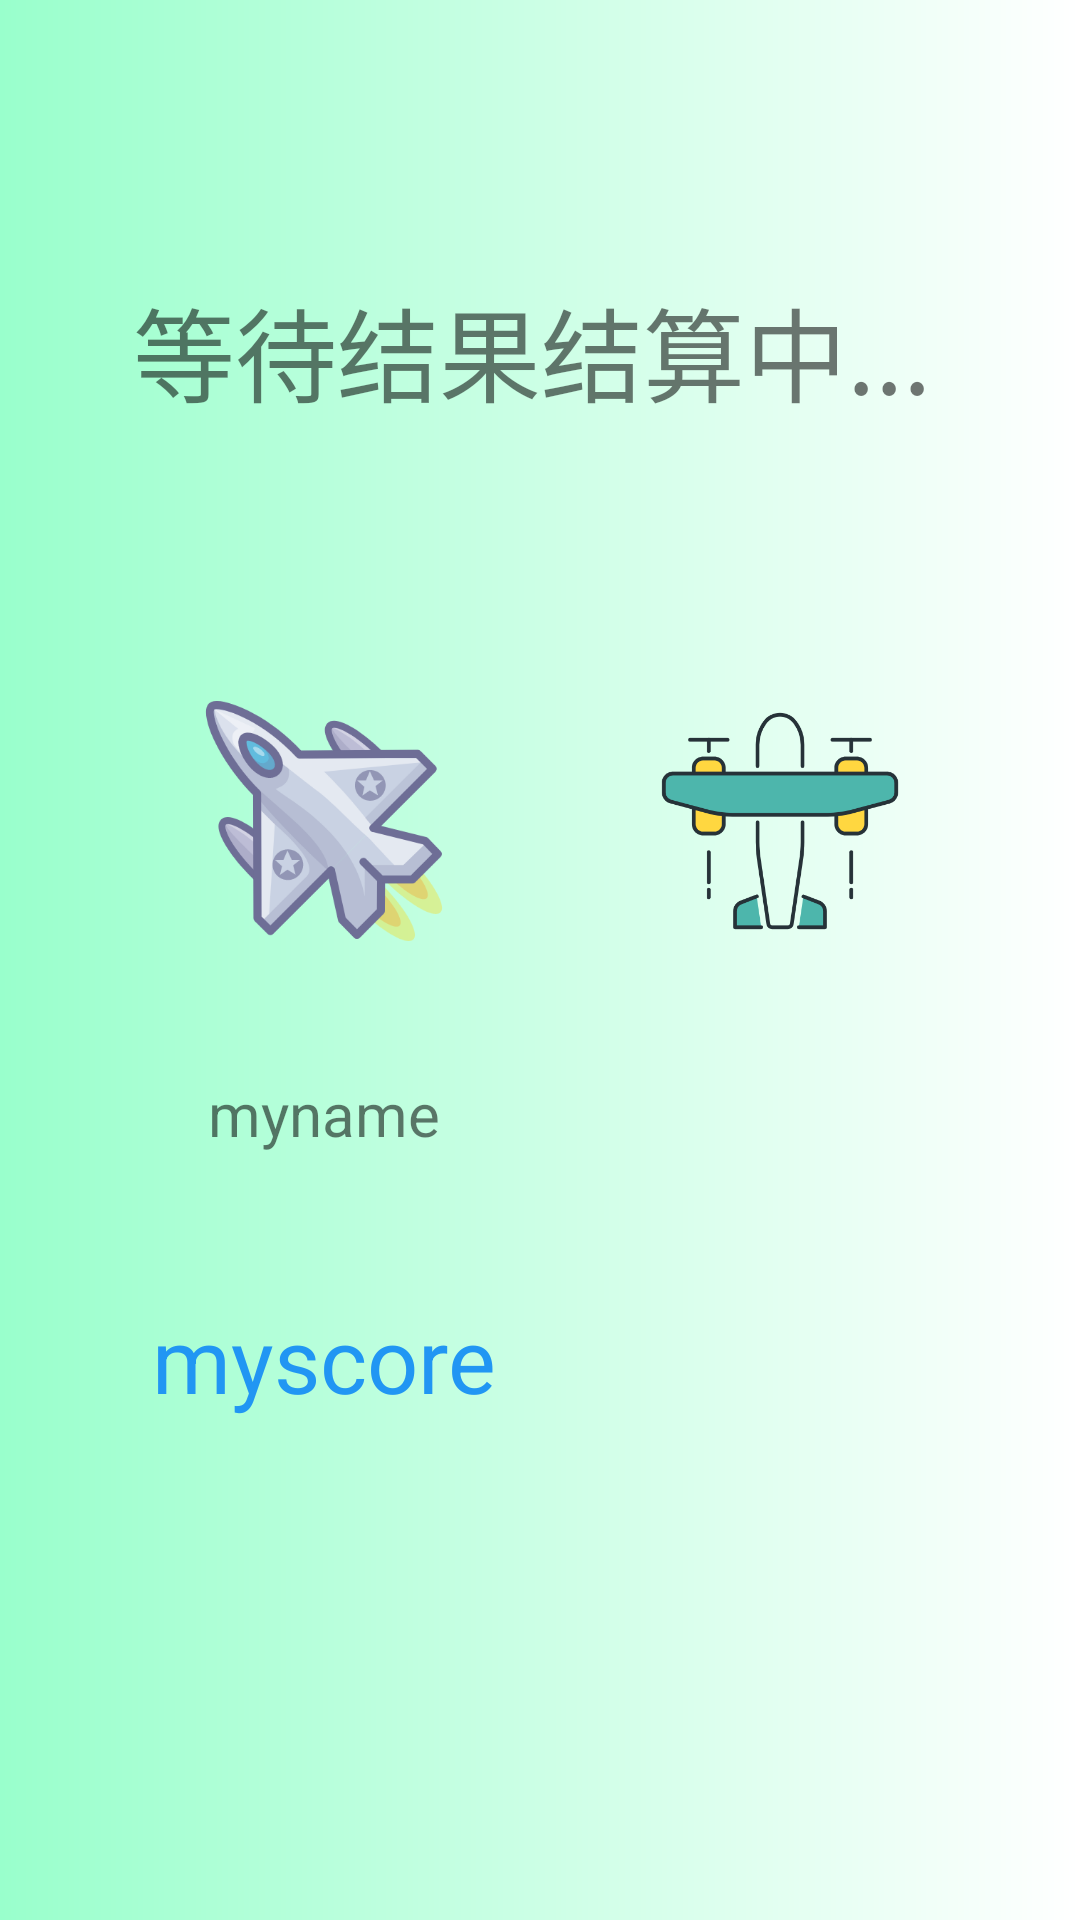

Where to tap for icons on this 1080x1920 app screen, as (x,y):
aircraft: (323,821), (779,821)
